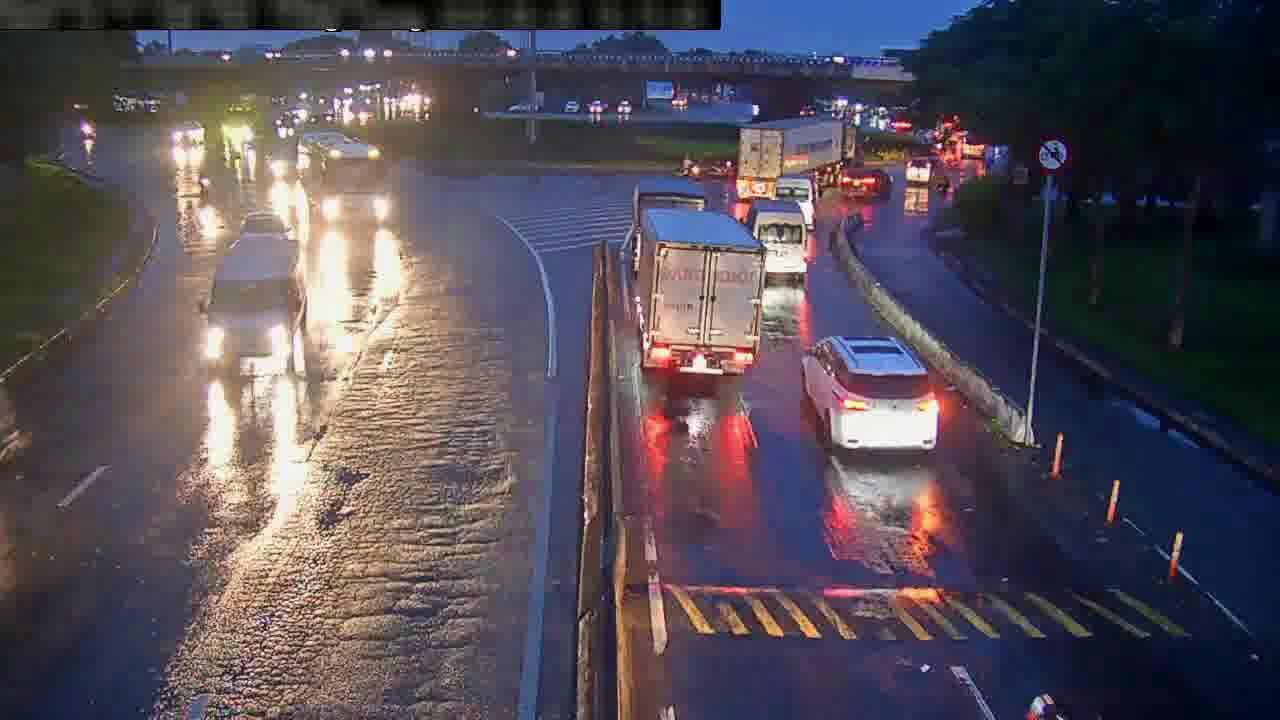car: (799, 335, 942, 454), (835, 164, 893, 201), (902, 155, 957, 186)
container: (629, 210, 760, 381), (730, 118, 863, 193)
passenger_car: (203, 233, 312, 376), (292, 128, 387, 230), (745, 201, 812, 285), (768, 175, 823, 227)
